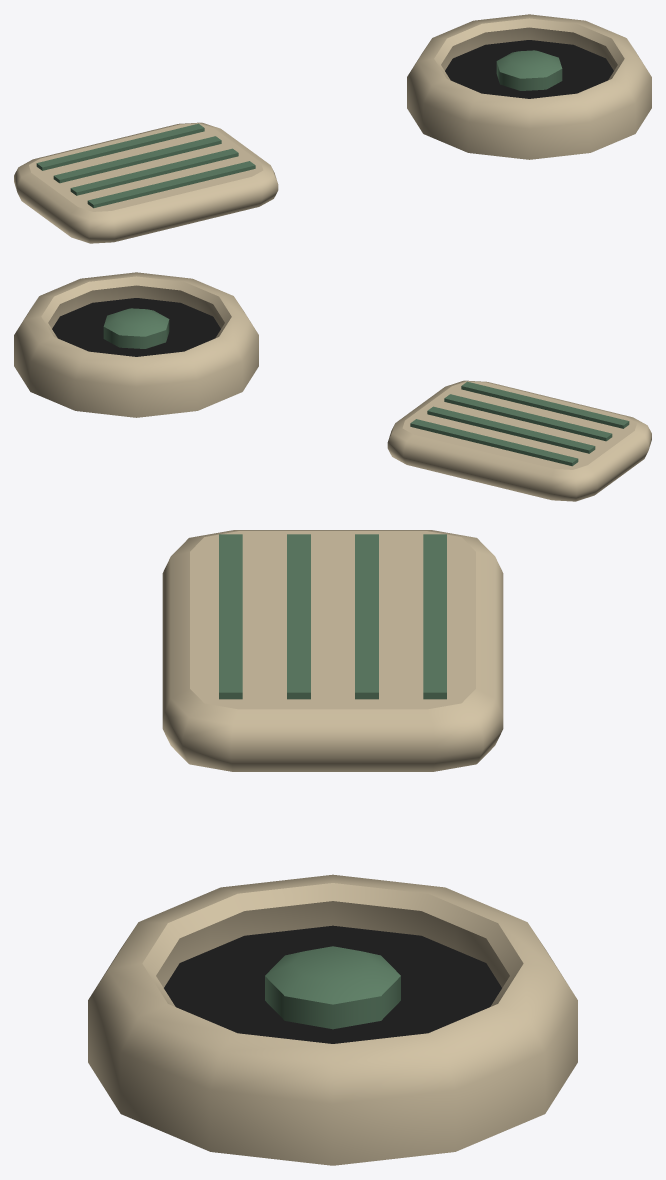
The model's file is t10_fan.obj.
3 renders of one model, top to bottom at view 1: azimuth 30°, elevation 25°; view 2: azimuth 150°, elevation 25°; view 3: azimuth 270°, elevation 25°, orthographic. The views are drawn at different scales.
Visible parts, largest first — view 1: t10_fan; view 2: t10_fan; view 3: t10_fan.
Boxes of the visible parts, x1,y1,x2,y2 form: t10_fan: [14, 14, 651, 243]; t10_fan: [14, 272, 651, 501]; t10_fan: [88, 530, 577, 1165].
Bounding box in the file's own units: 2.01 × 0.16 × 0.72.
